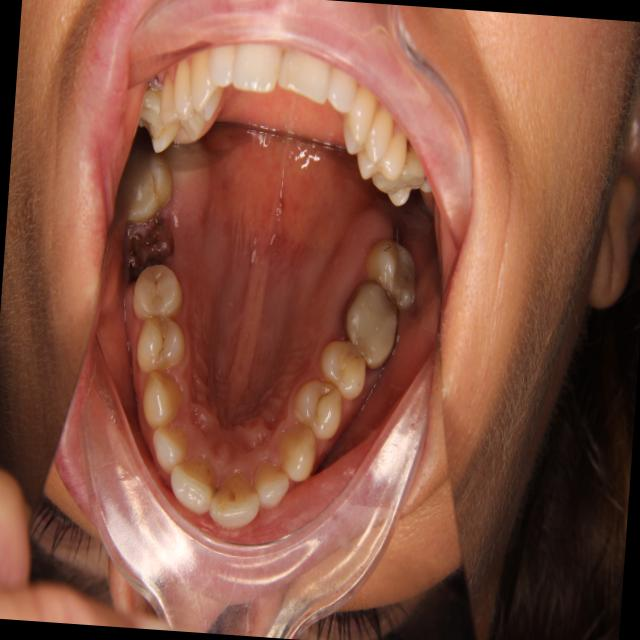tooth: (338, 270, 409, 373), (359, 228, 429, 317), (117, 147, 184, 233), (204, 463, 271, 545), (283, 370, 353, 446), (127, 307, 194, 385), (313, 333, 378, 410), (163, 444, 228, 520), (123, 259, 190, 332), (136, 359, 191, 439), (143, 413, 197, 484), (271, 421, 325, 489), (244, 457, 300, 513)
